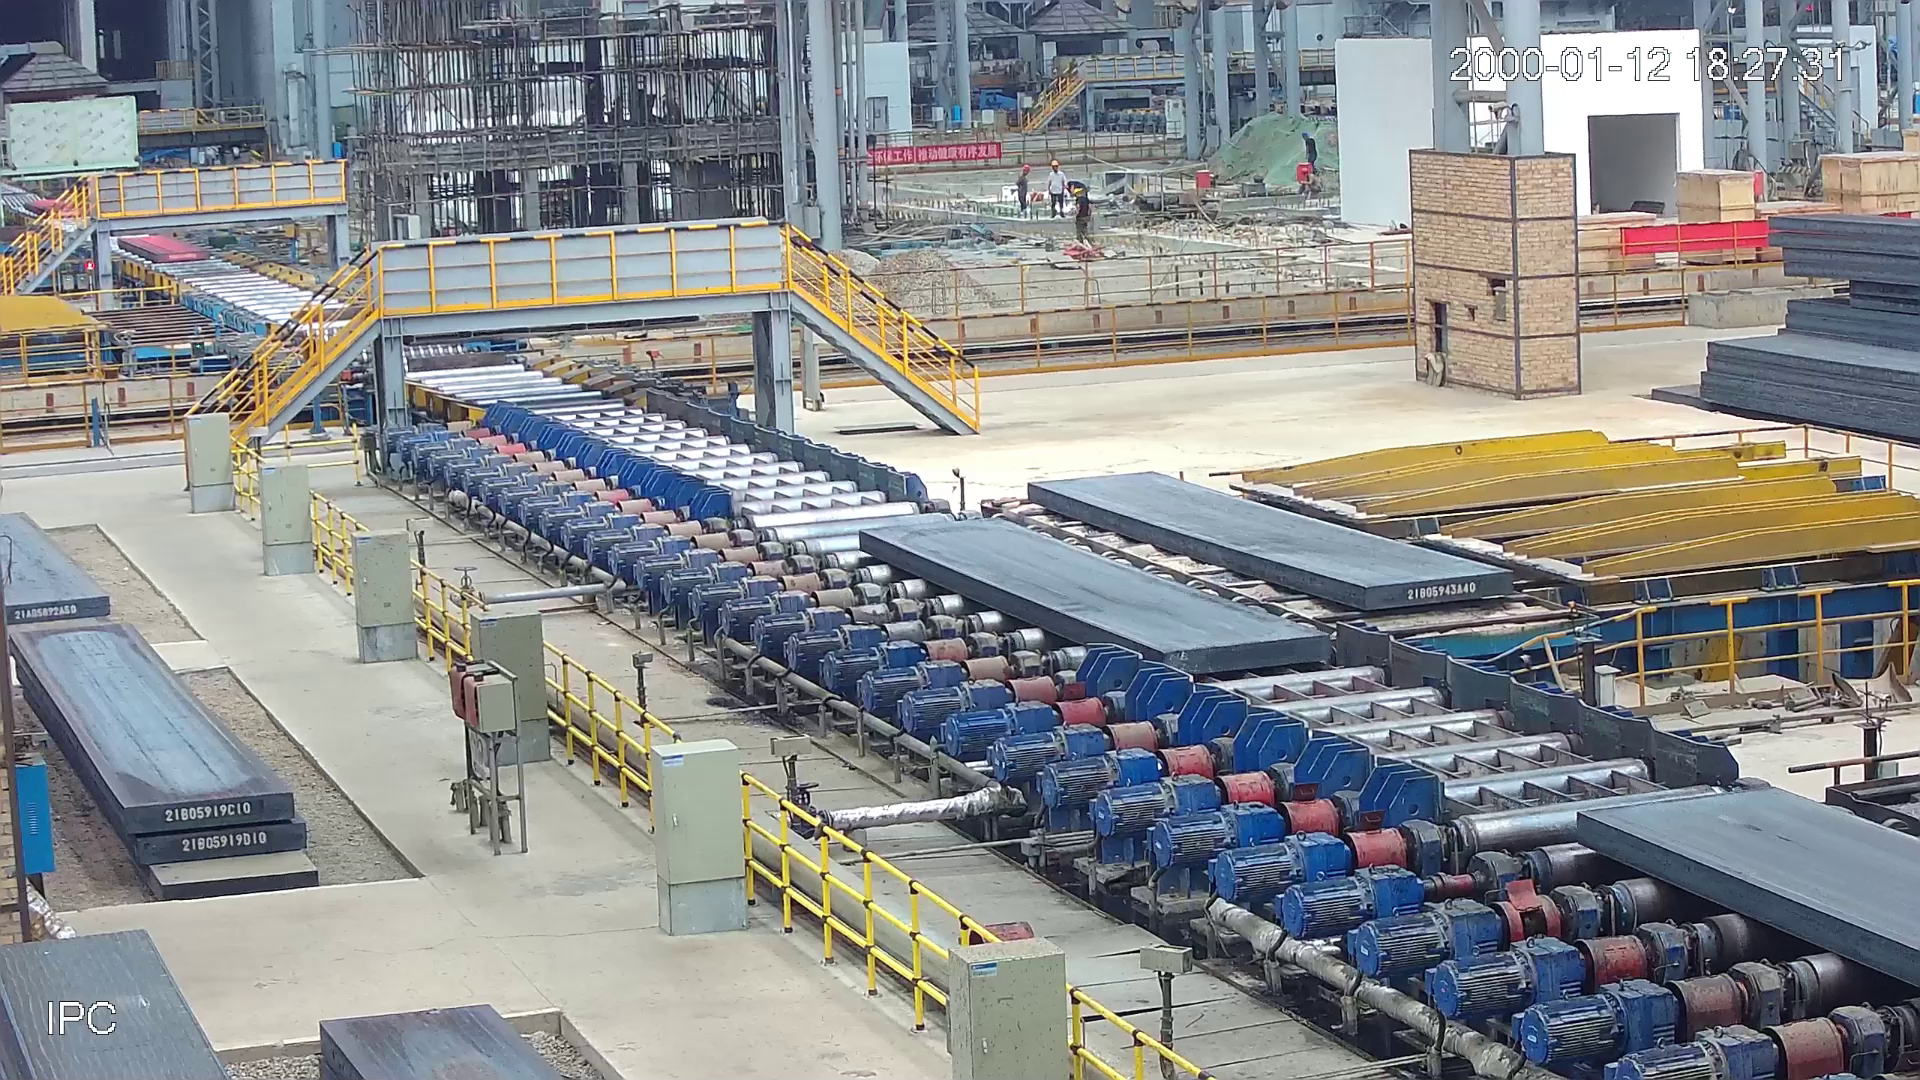slab: (851, 505, 1342, 680), (1019, 459, 1522, 620), (1569, 785, 1920, 992), (115, 233, 214, 264)
